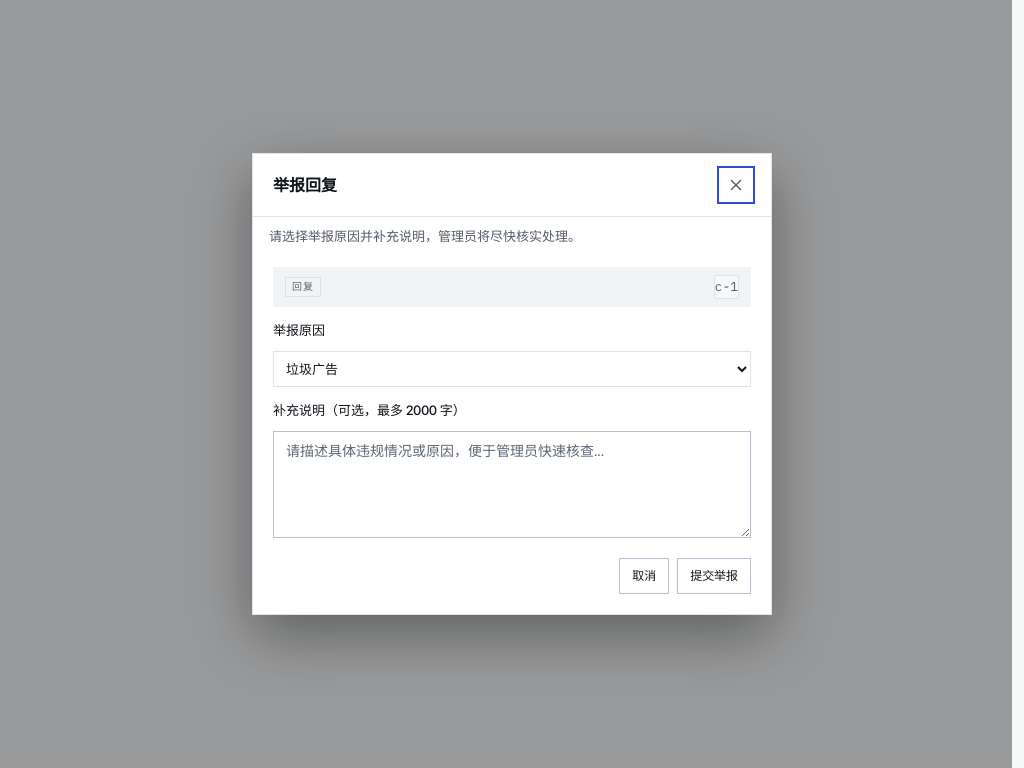
Test case: ReportDialog 举报弹窗组件 › 提交失败时弹窗内展示错误信息且不关闭弹窗
Click the button "提交举报": (714,576) [677,558,751,594]
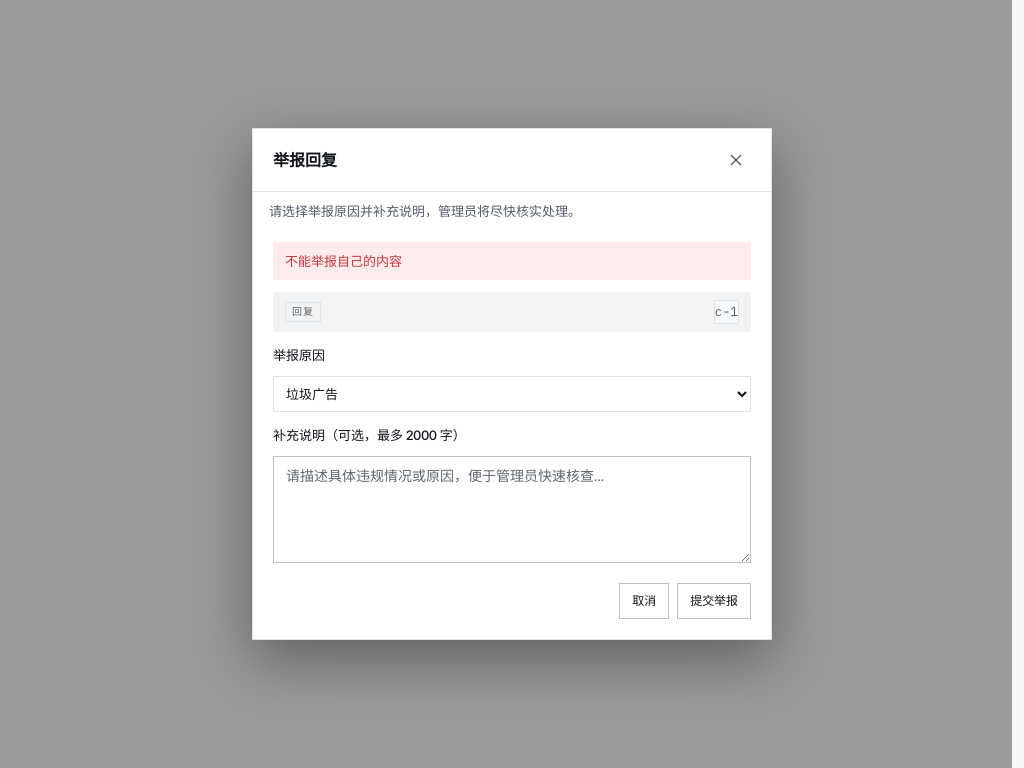
Expected: the dialog is shown, [252,128,772,640]
Expected: the message "不能举报自己的内容" is shown, [273,242,751,280]
